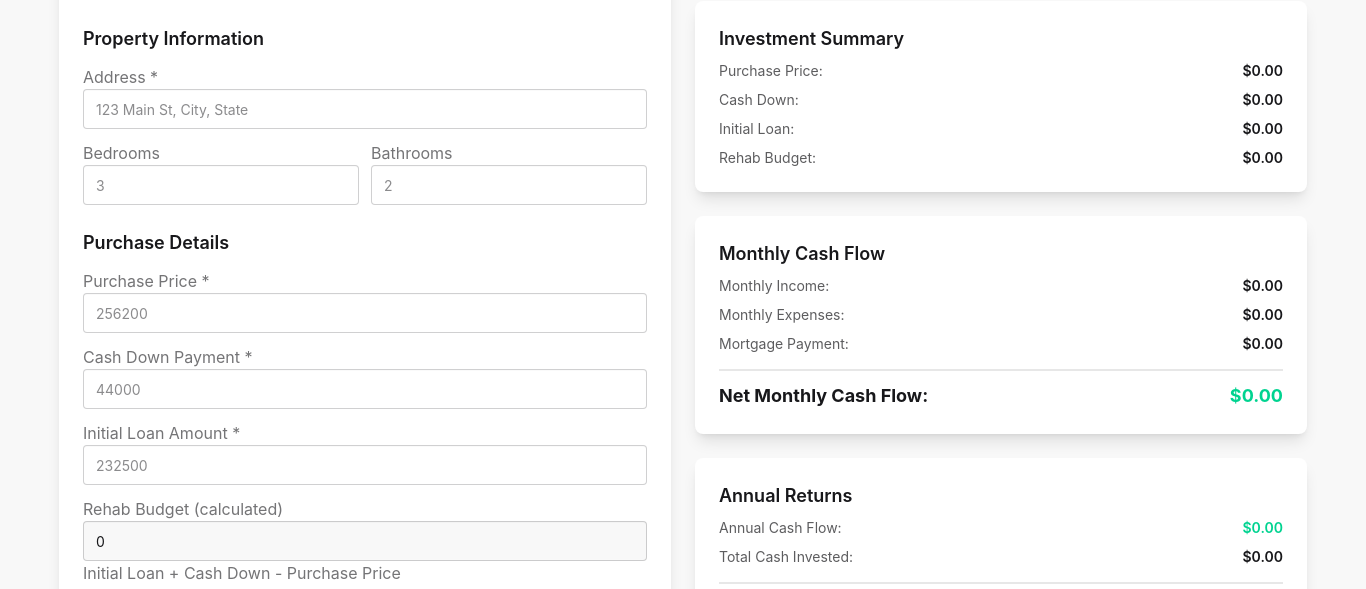
DealAnalyzer - Task 6: Calculations Logic › should calculate cashPulledOut correctly
// Fill in purchase details
In the number field labelled "Purchase Price *": [365, 313] box [83, 293, 647, 333], type "250000"
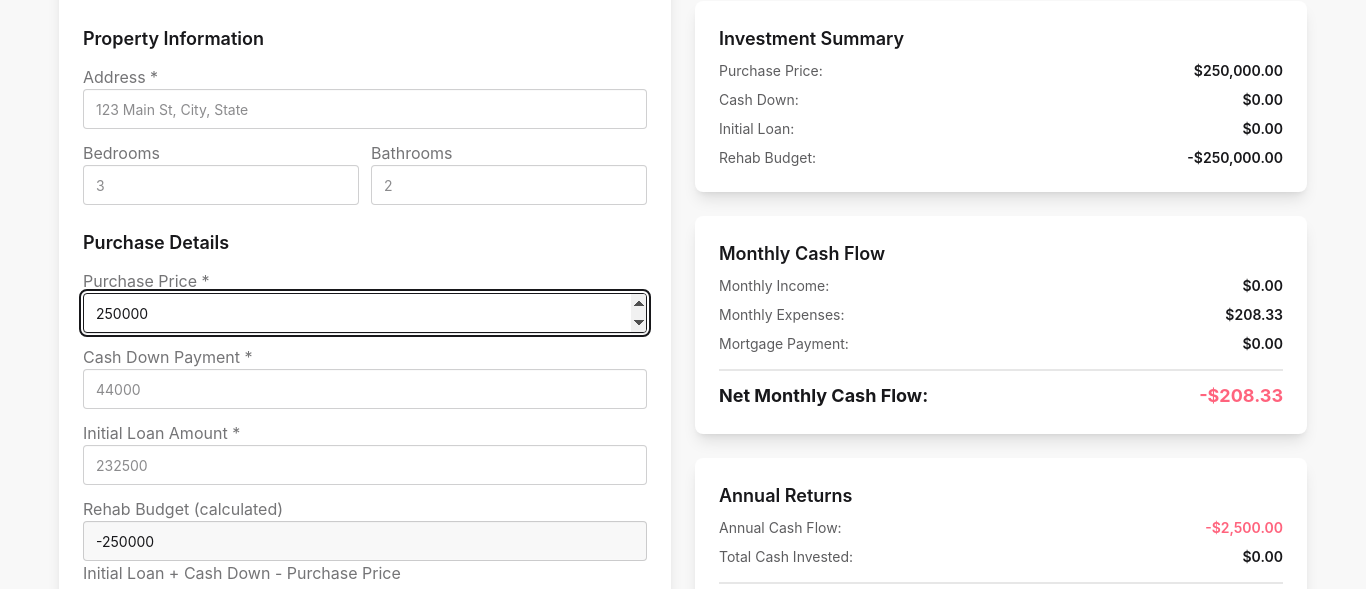
In the number field labelled "Cash Down Payment *": [365, 389] box [83, 369, 647, 409], type "50000"
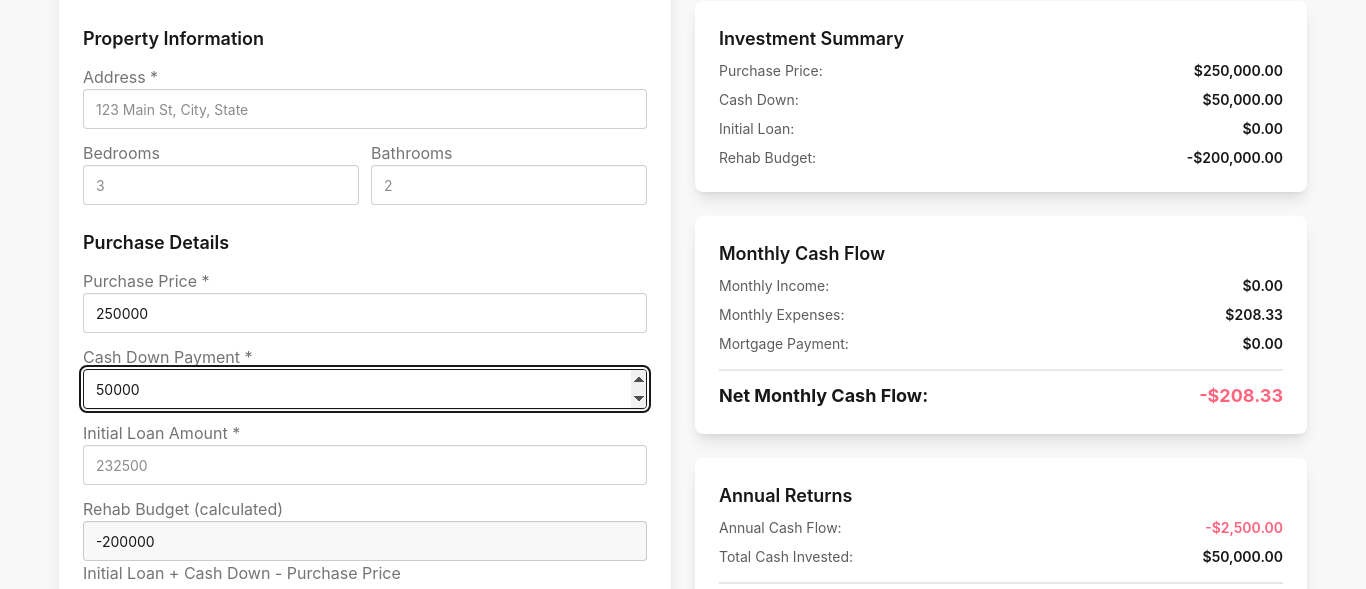
In the number field labelled "Initial Loan Amount *": [365, 465] box [83, 445, 647, 485], type "200000"
(page scrolled)
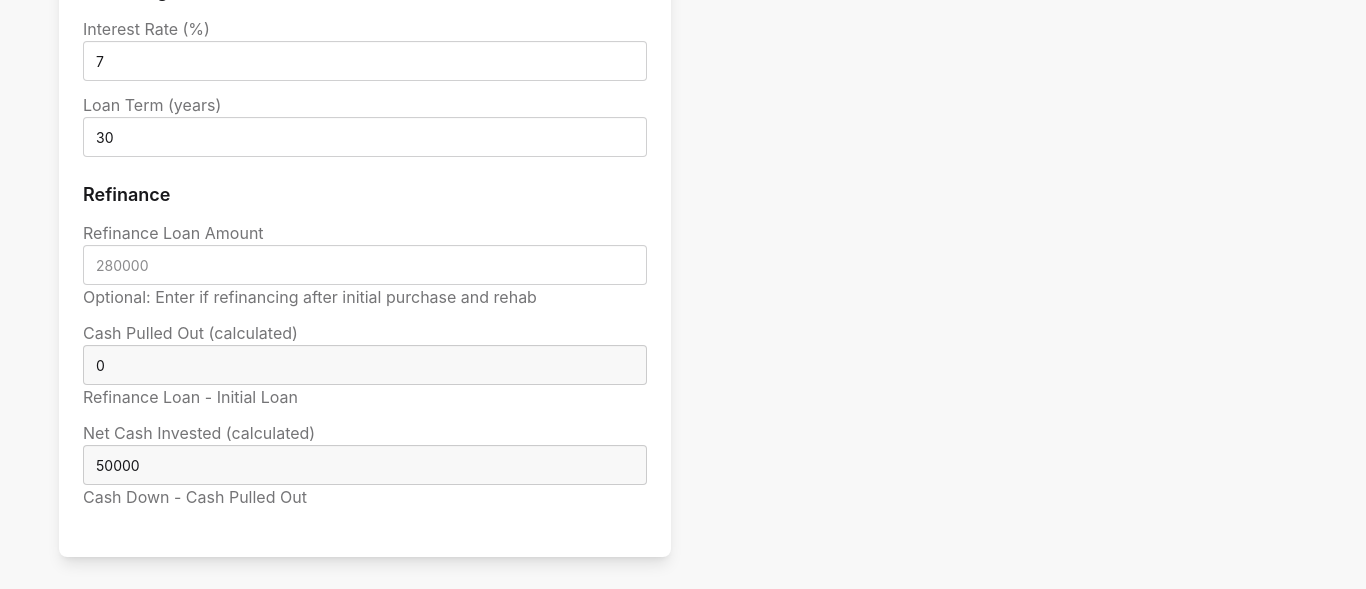
// Fill in refinance
In the number field labelled "Refinance Loan Amount": [365, 265] box [83, 245, 647, 285], type "240000"
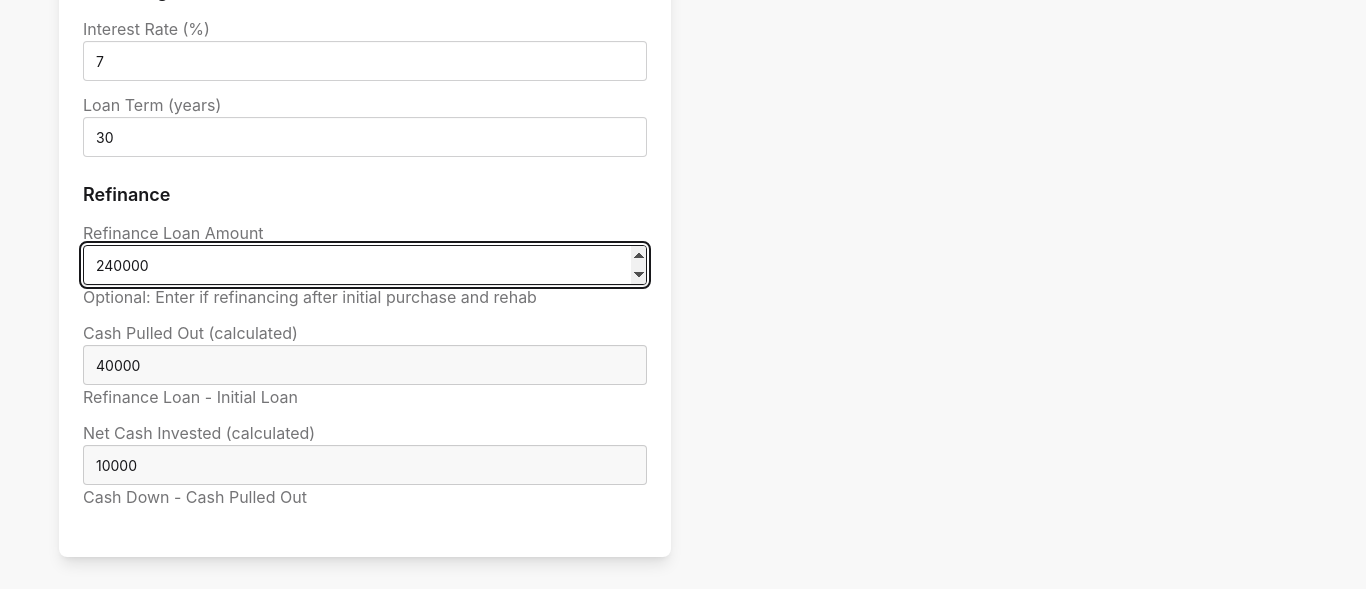
Expected: the field labelled "Cash Pulled Out (calculated)" holds "40000", [83, 345, 647, 385]
